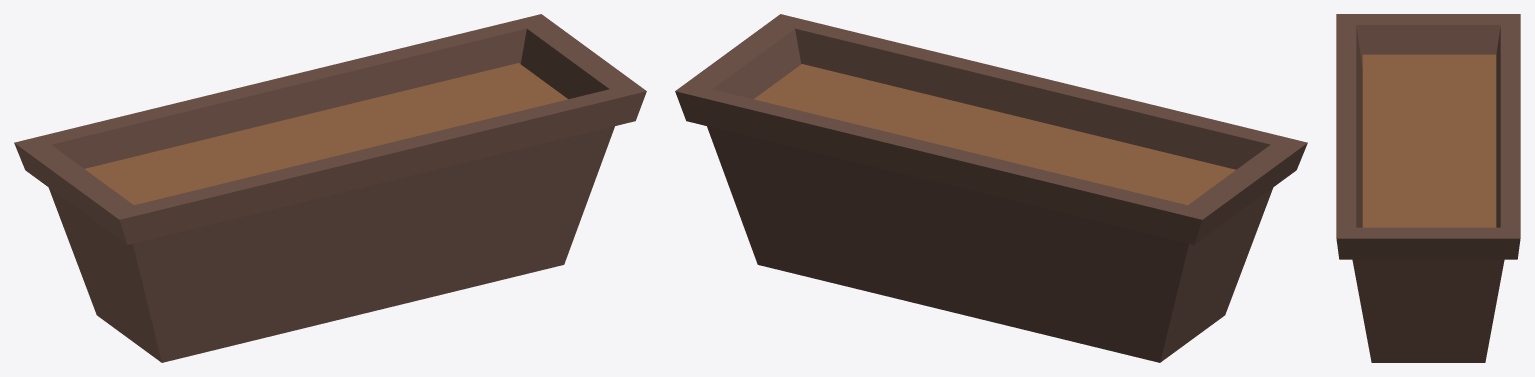
File: FoodTrough_Full.fbx
3 renders of one model, left to right at view 1: azimuth 30°, elevation 25°; view 2: azimuth 150°, elevation 25°; view 3: azimuth 270°, elevation 25°, orthographic. The views are drawn at different scales.
Visible parts, largest first — view 1: FoodTrough_Full; view 2: FoodTrough_Full; view 3: FoodTrough_Full.
Part boxes in pixels (x1,y1,x2,y2): FoodTrough_Full: (14, 14, 646, 362); FoodTrough_Full: (675, 14, 1307, 362); FoodTrough_Full: (1336, 14, 1520, 362).
Size of the model in its own units: 276 by 86.45 by 95.5.
